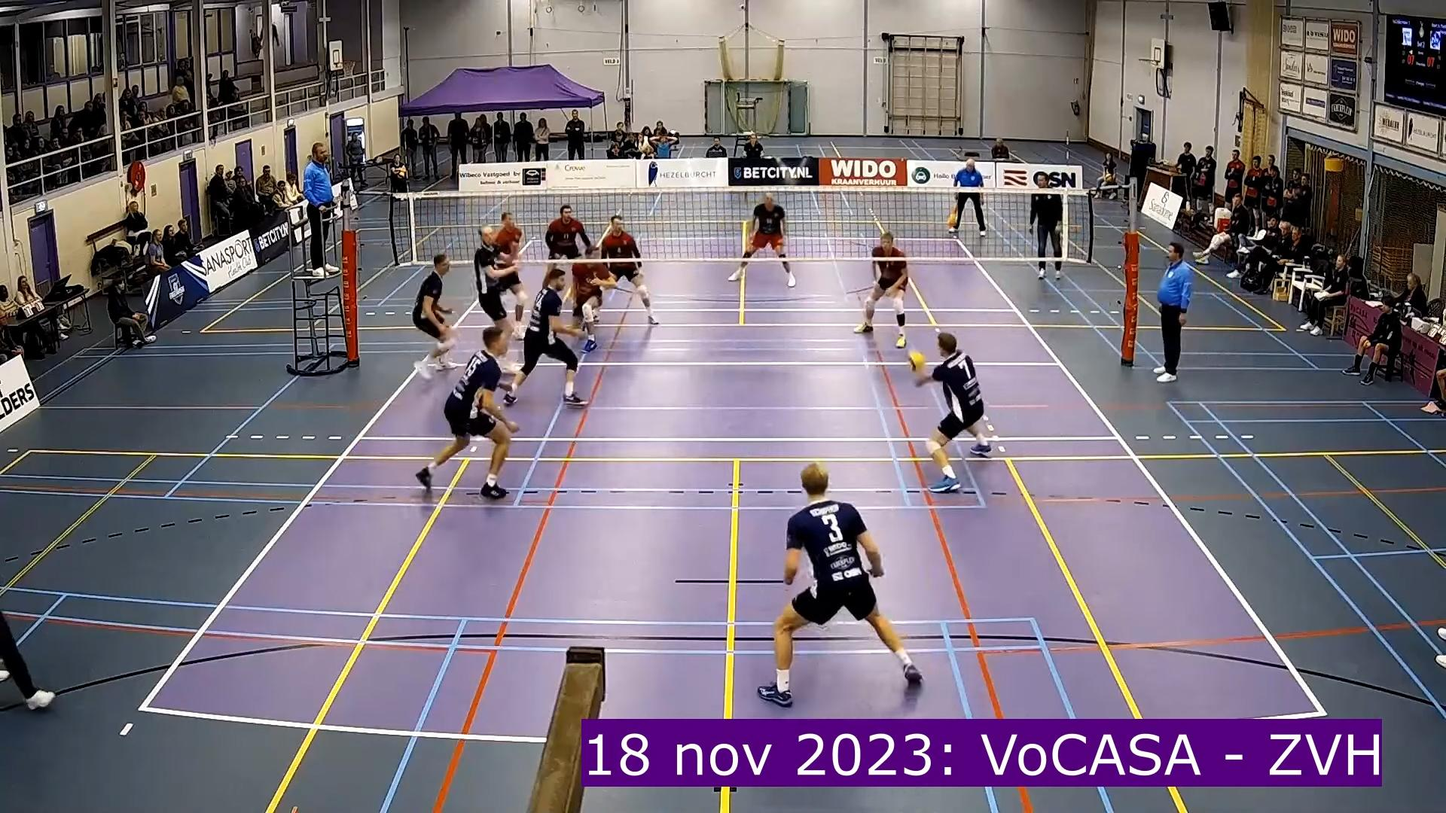Dig: (898, 329, 996, 487)
Player: (758, 464, 922, 707), (416, 325, 517, 498), (504, 267, 586, 406), (599, 215, 658, 324), (729, 193, 795, 287), (855, 231, 908, 348), (413, 254, 456, 379), (489, 212, 528, 338), (474, 227, 520, 330), (572, 246, 616, 352), (545, 205, 592, 260)
ball: (902, 353, 929, 371)
